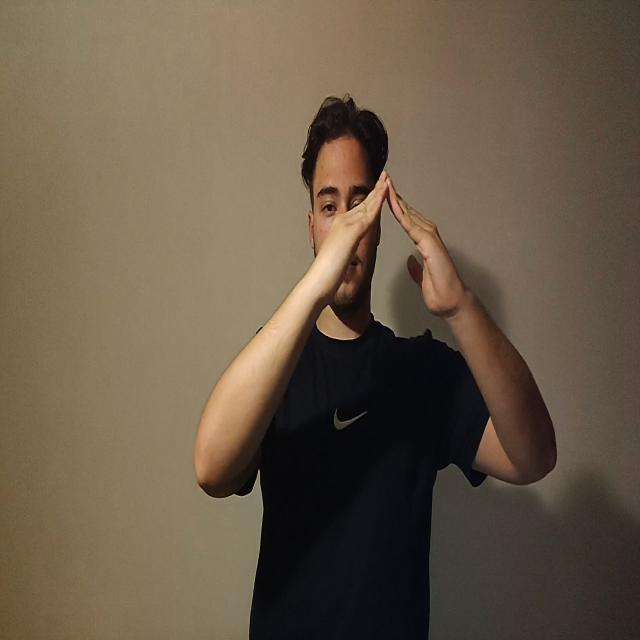house: (307, 168, 462, 315)
